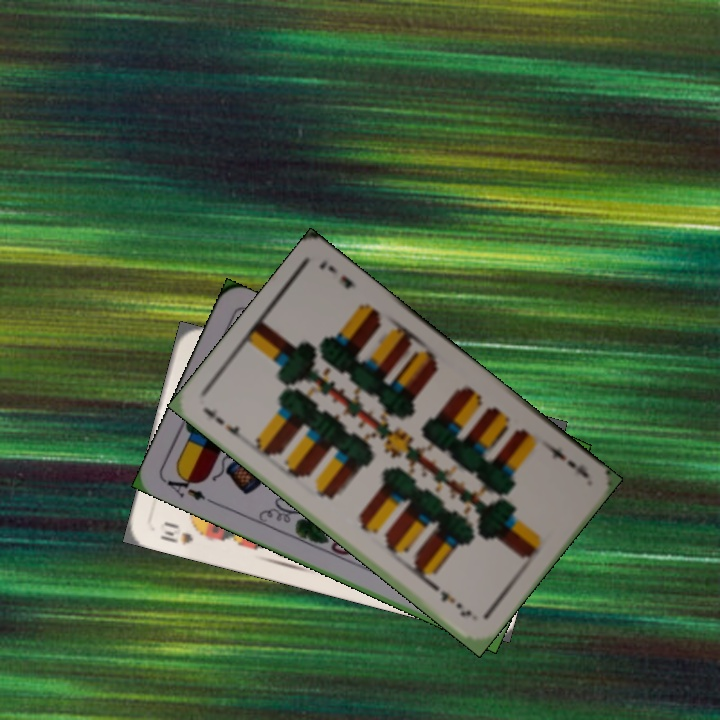E7: (540, 438, 591, 481), (198, 403, 249, 445)
EA: (161, 468, 208, 503)
S10: (156, 517, 211, 548)
